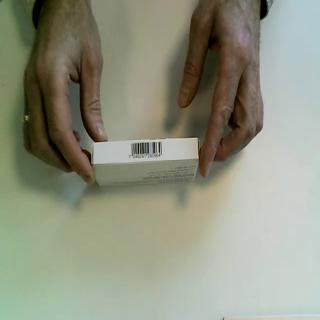oxycontin15mg: (90, 135, 202, 190)
